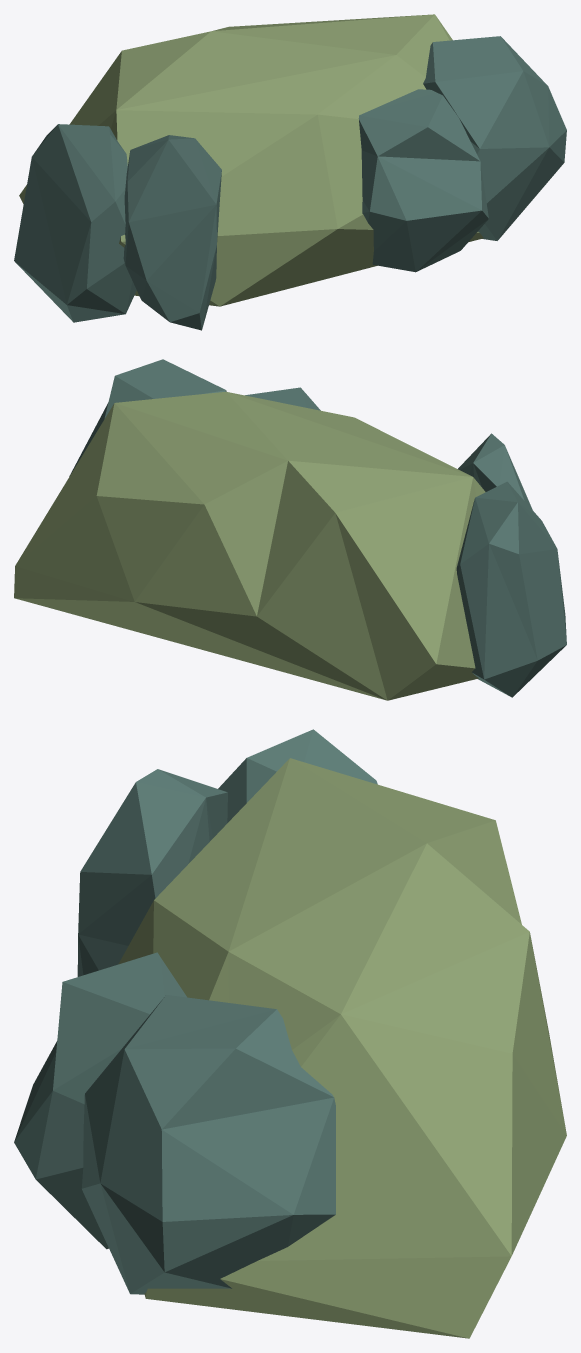
Rendered from 池塘石头2.fbx.
3 renders of one model, top to bottom at view 1: azimuth 30°, elevation 25°; view 2: azimuth 150°, elevation 25°; view 3: azimuth 270°, elevation 25°, orthographic. The views are drawn at different scales.
Parts seen in each view (by area): view 1: 石头2-池塘; view 2: 石头2-池塘; view 3: 石头2-池塘.
Part boxes in pixels (left/top/right/bottom): 石头2-池塘: left=14, top=14, right=566, bottom=330; 石头2-池塘: left=14, top=359, right=566, bottom=700; 石头2-池塘: left=14, top=729, right=566, bottom=1338.
Bounding box in the file's own units: 104 × 43.81 × 63.21.
